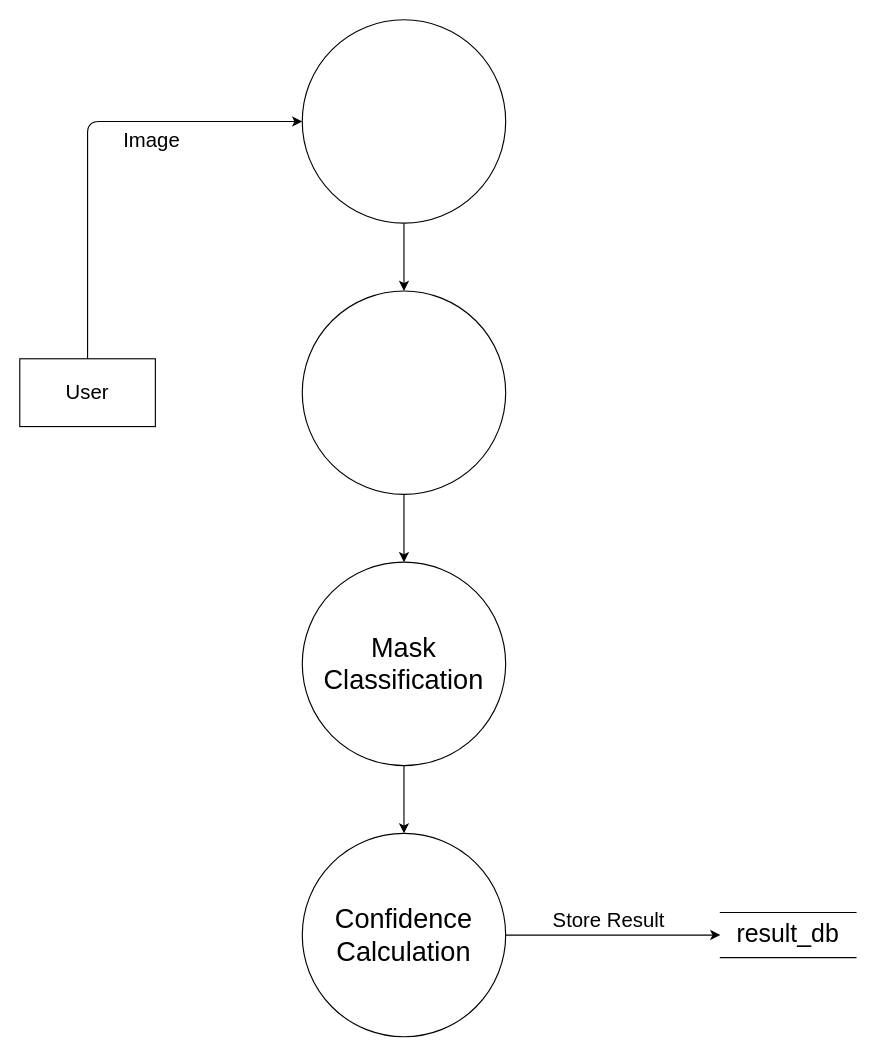
Some shapes in this 876 by 1057 pixel diagram are drawn without their labels. The centre of each missing label's shape, as x and y in pixels:
"Face Detection" belongs at (403,121).
"Feature Extraction" belongs at (403,392).
